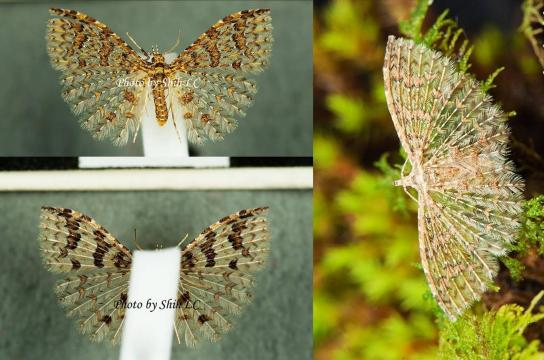Alucitidae: (373, 23, 526, 328), (33, 203, 269, 350), (44, 3, 279, 150)
moth: (371, 21, 524, 326), (31, 201, 267, 348), (42, 1, 277, 148)
